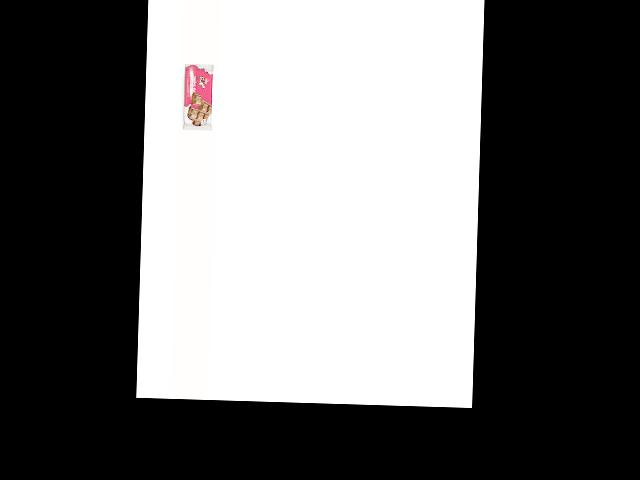chocolate: (167, 52, 210, 131)
